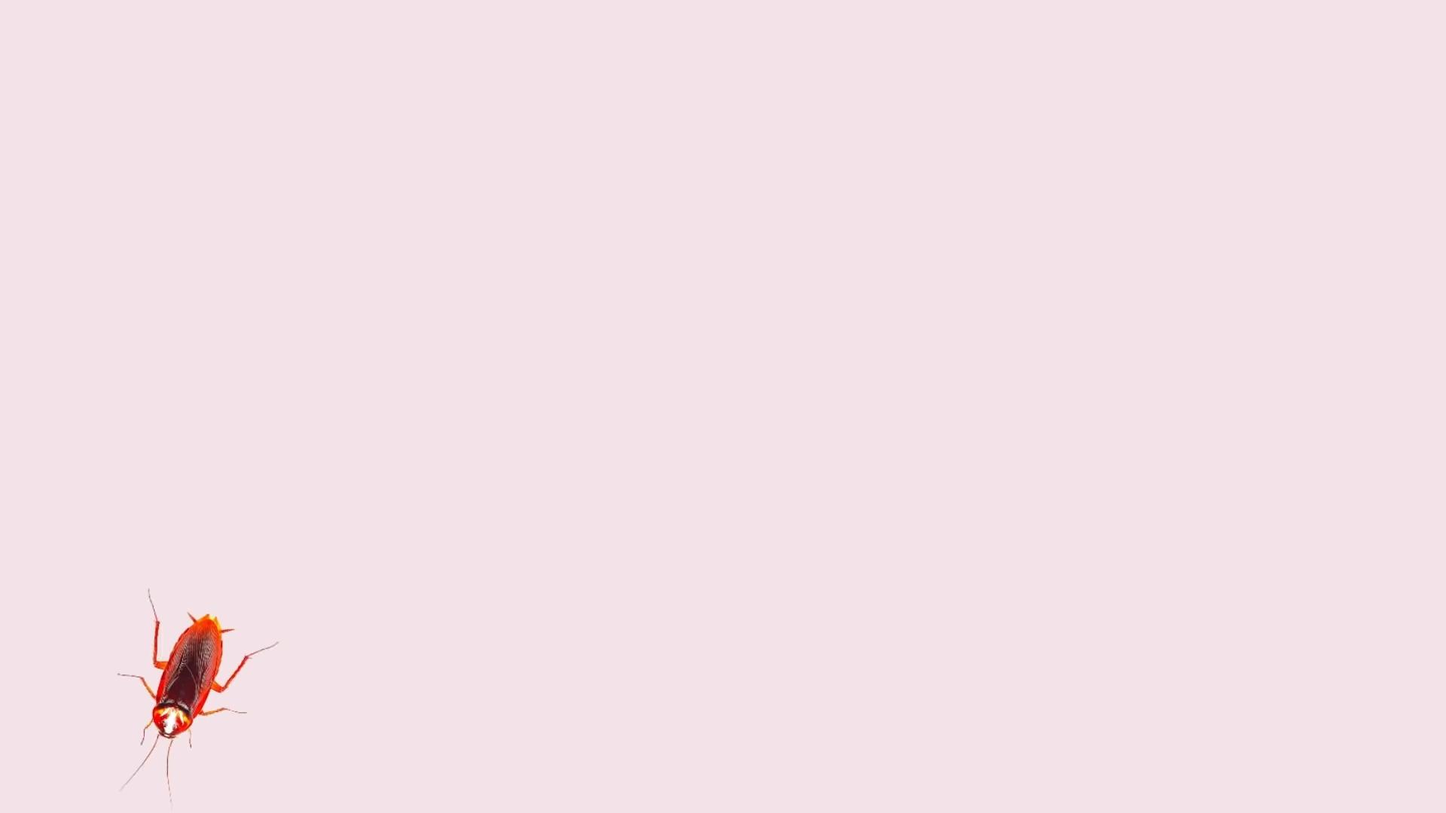cockroach: (109, 583, 271, 801)
